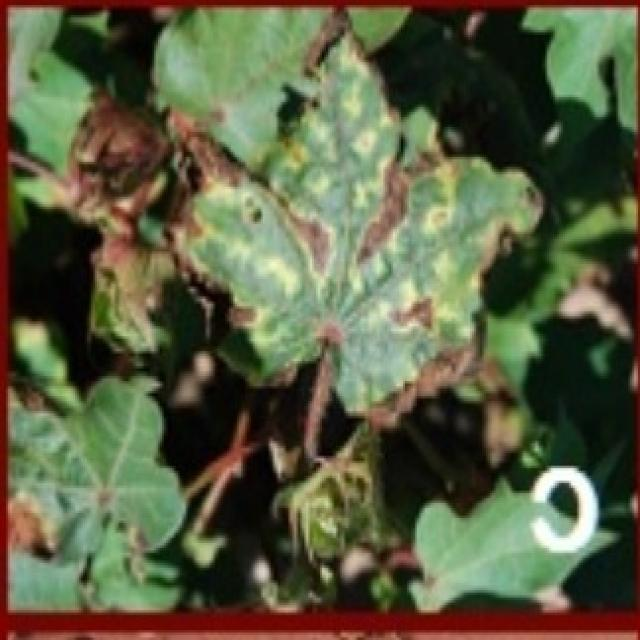Fusarium Wilt: (23, 23, 570, 497)
